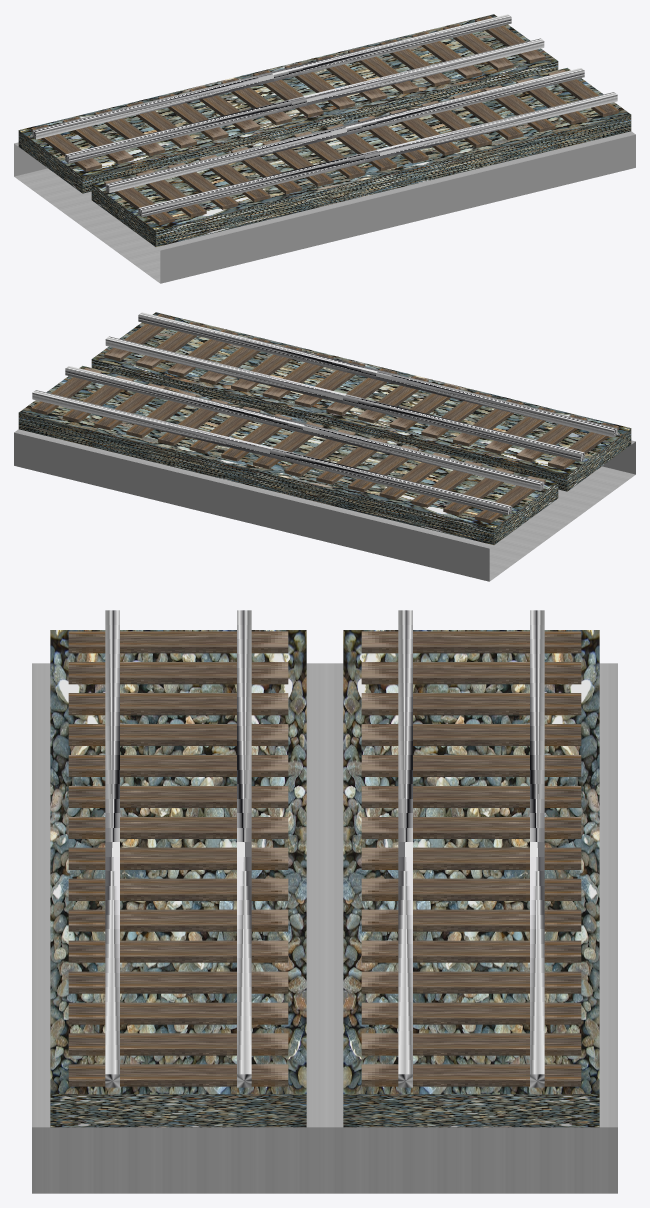
The model's file is railparts.fbx.
3 views of the same model, one above another, from view 1: azimuth 30°, elevation 25°; view 2: azimuth 150°, elevation 25°; view 3: azimuth 270°, elevation 25° (orthographic). The views are drawn at different scales.
Parts seen in each view (by area): view 1: railparts; view 2: railparts; view 3: railparts.
Boxes of the visible parts, <box> form: railparts: <box>14,14,635,283</box>; railparts: <box>14,312,635,581</box>; railparts: <box>32,610,617,1193</box>.
Bounding box in the file's own units: 150 × 18 × 80.
